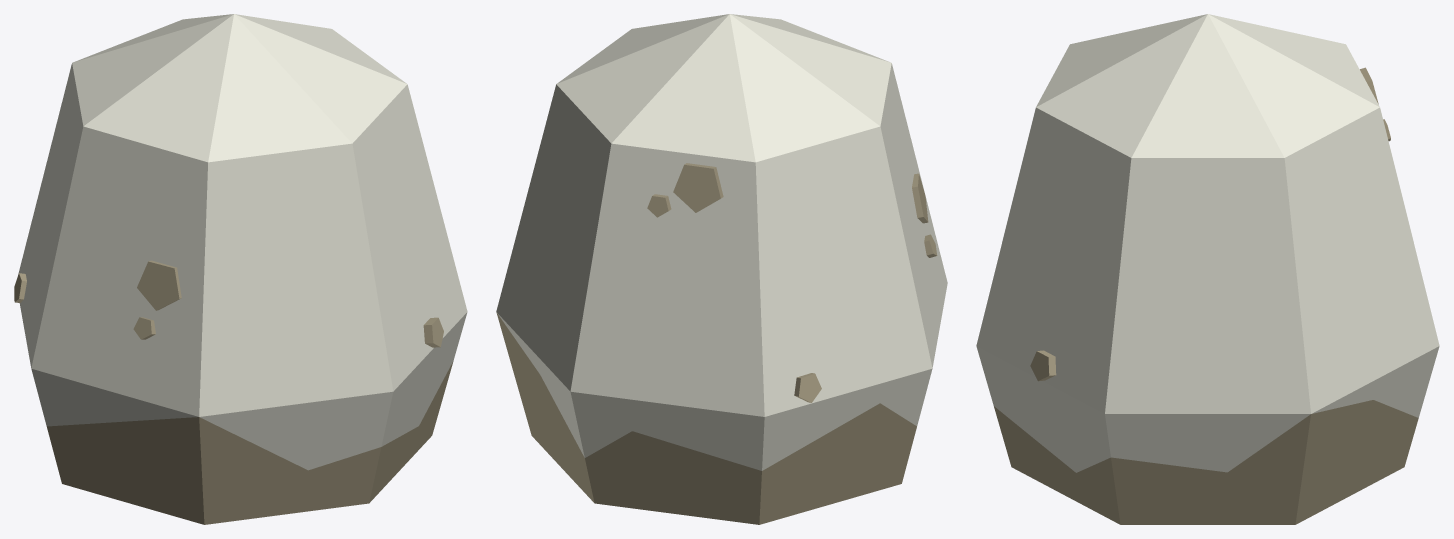
File: Egg_01.FBX
3 views of the same model, side by side, from view 1: azimuth 30°, elevation 25°; view 2: azimuth 150°, elevation 25°; view 3: azimuth 270°, elevation 25° (orthographic).
Visible parts, largest first — view 1: Egg_01; view 2: Egg_01; view 3: Egg_01.
Part boxes in pixels (x1,y1,x2,y2): Egg_01: [14, 14, 467, 524]; Egg_01: [496, 14, 947, 524]; Egg_01: [976, 14, 1439, 524].
Size of the model in its own units: 0.5796 by 0.6925 by 0.5945.
